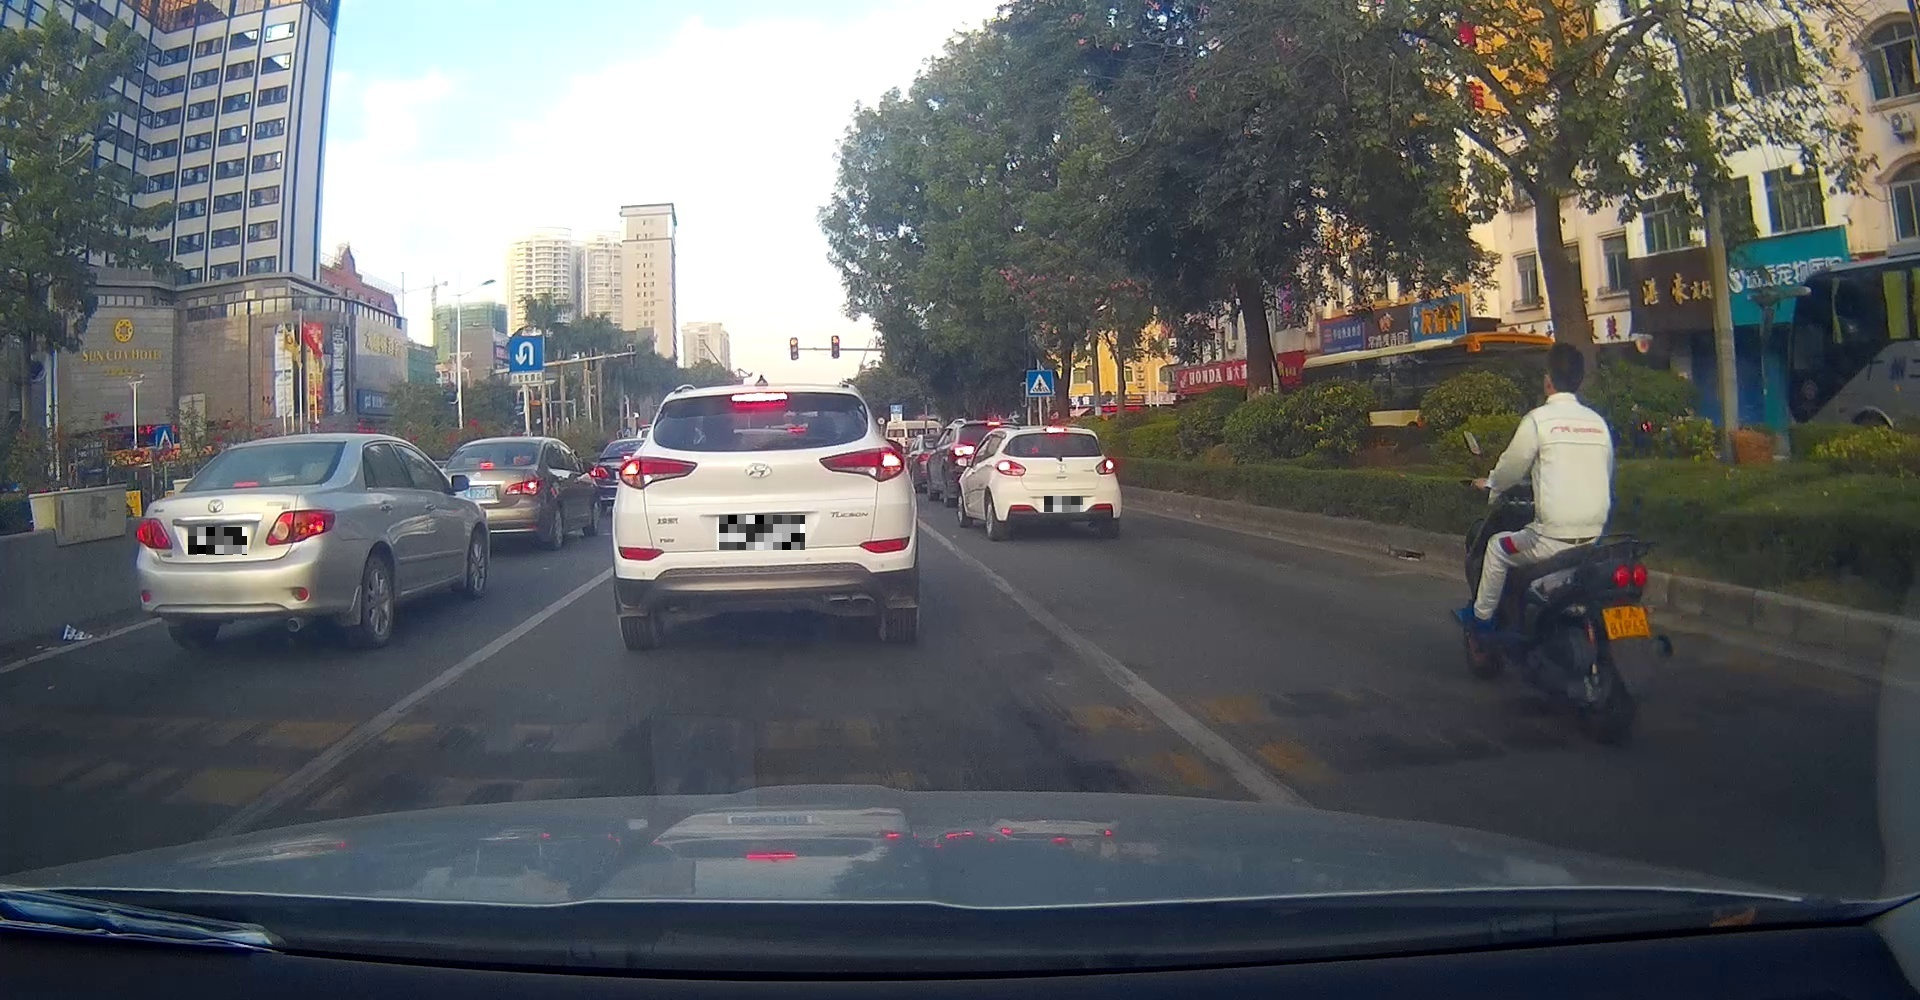L_light: (617, 453, 700, 492), (135, 516, 173, 549), (994, 459, 1027, 477)
R_light: (817, 444, 907, 484), (265, 509, 335, 546), (1095, 458, 1116, 475)
T_light: (730, 393, 789, 404), (232, 482, 258, 487), (1045, 426, 1065, 433)
day-brake: (604, 376, 921, 654), (135, 431, 337, 648), (990, 421, 1124, 543)
plate_1: (188, 527, 248, 555)
plate_2: (719, 515, 805, 549)
plate_3: (1044, 496, 1083, 511)
